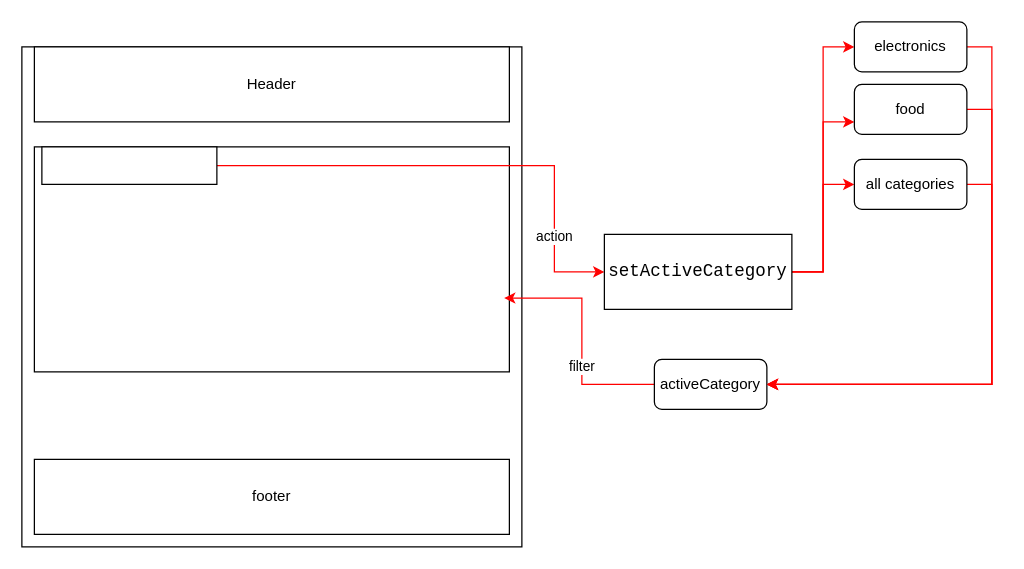
Image size: 1024x569. Some labels were removed from this diagram. The box of each missing label's shape, as (x1, y1, x2, y2) in pixels:
categories: (41, 146, 217, 184)
products: (33, 146, 509, 372)
